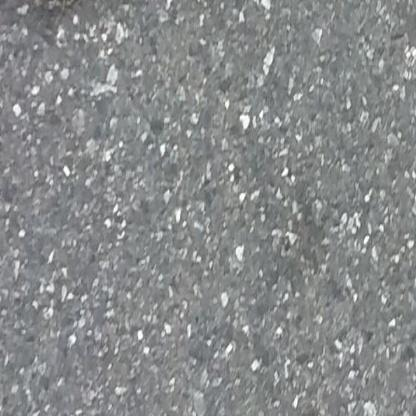Cracks: (0, 0, 98, 9)
